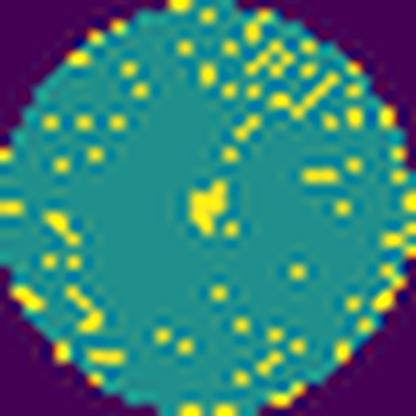Center: (182, 174, 233, 240)
